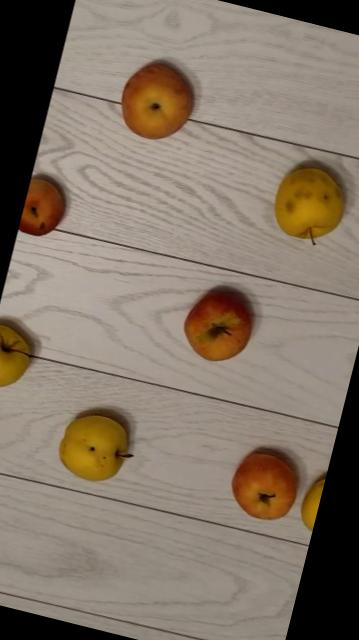apple_green: (52, 408, 138, 489), (268, 164, 349, 248), (0, 323, 37, 396), (294, 470, 326, 532)
apple_red: (113, 58, 200, 147), (176, 284, 259, 368), (223, 447, 304, 527), (17, 176, 70, 241)
